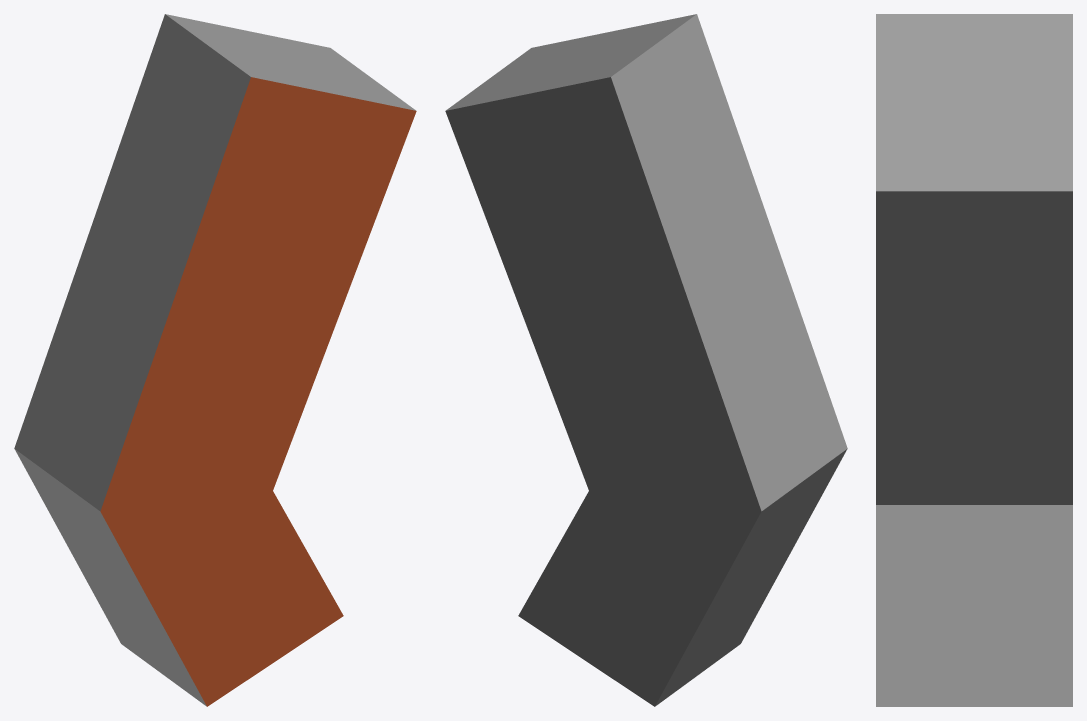
The model's file is construction_5604_assumed_A_Casa_h6m.obj.
The picture shows the model from 3 angles, left to right: view 1: azimuth 30°, elevation 25°; view 2: azimuth 150°, elevation 25°; view 3: azimuth 270°, elevation 25°; orthographic projection. The views are drawn at different scales.
Visible parts, largest first — view 1: construction_5604_assumed_A_Casa; view 2: construction_5604_assumed_A_Casa; view 3: construction_5604_assumed_A_Casa.
Part boxes in pixels (bbox=[...]): construction_5604_assumed_A_Casa: bbox=[14, 14, 416, 706]; construction_5604_assumed_A_Casa: bbox=[445, 14, 847, 706]; construction_5604_assumed_A_Casa: bbox=[876, 14, 1072, 706].
Size of the model in its own units: 12.72 by 23.8 by 6.
